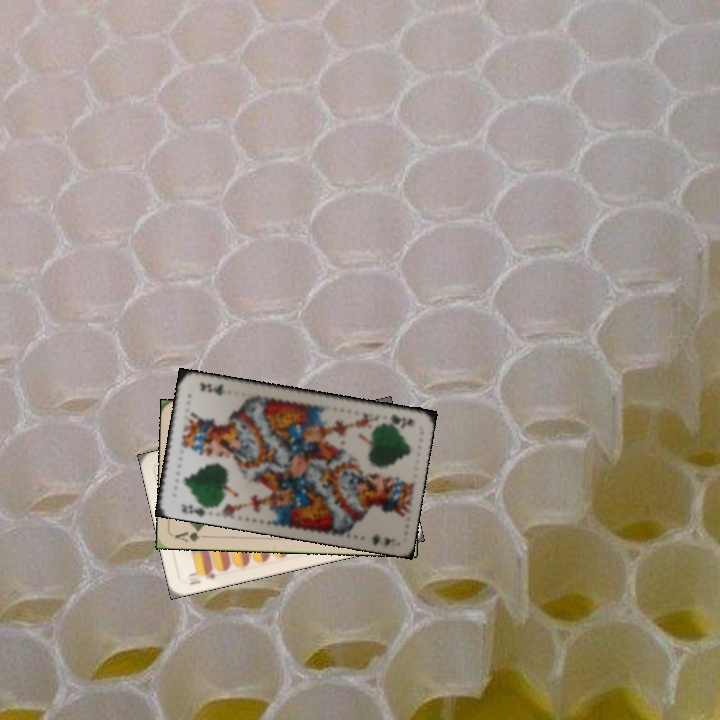E10: (184, 565, 218, 587)
GA: (171, 525, 212, 544)
GK: (177, 497, 213, 519), (377, 410, 417, 429)
